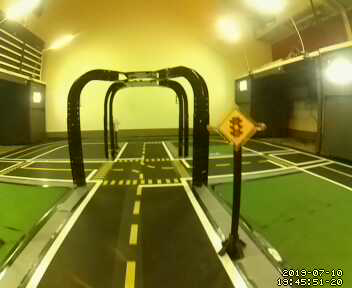Traffic light sign: (217, 109, 257, 146)
